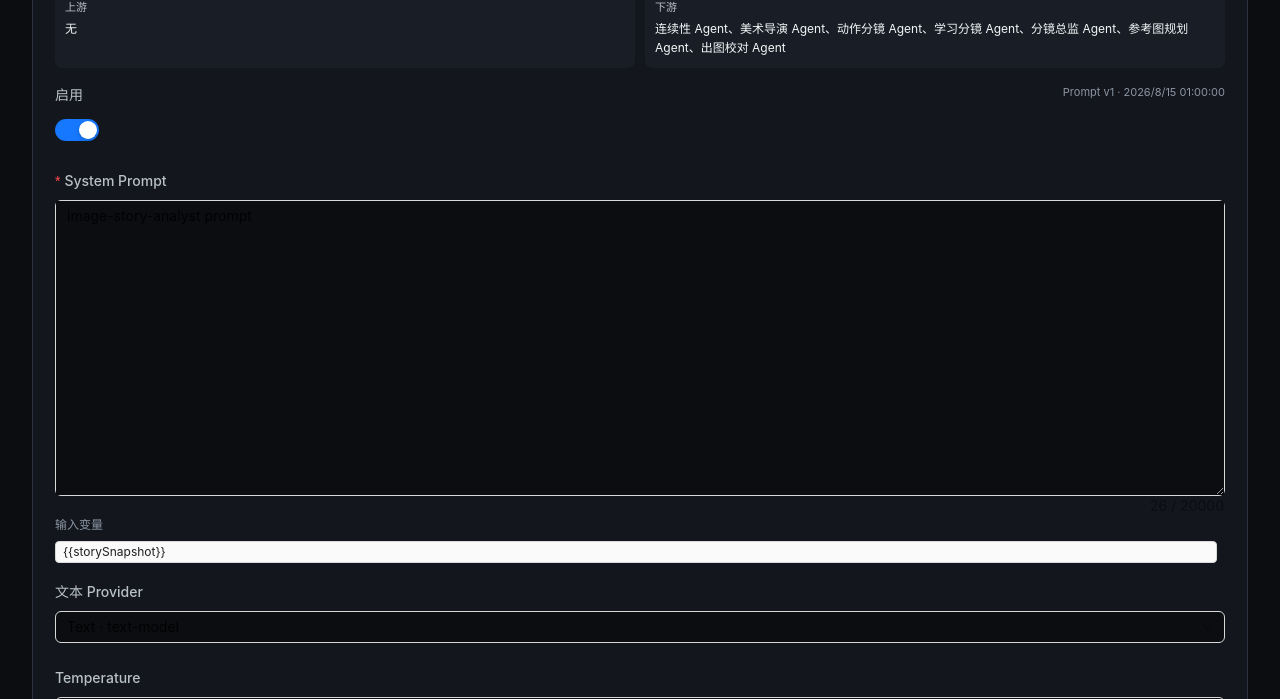
Test: ImageAgentFlowPage › protects dirty edits when switching nodes
The width and height of the screenshot is (1280, 699).
(page scrolled)
Type " changed" into the text box named "System Prompt" at [640, 348], box [56,200,1224,494]
(page scrolled)
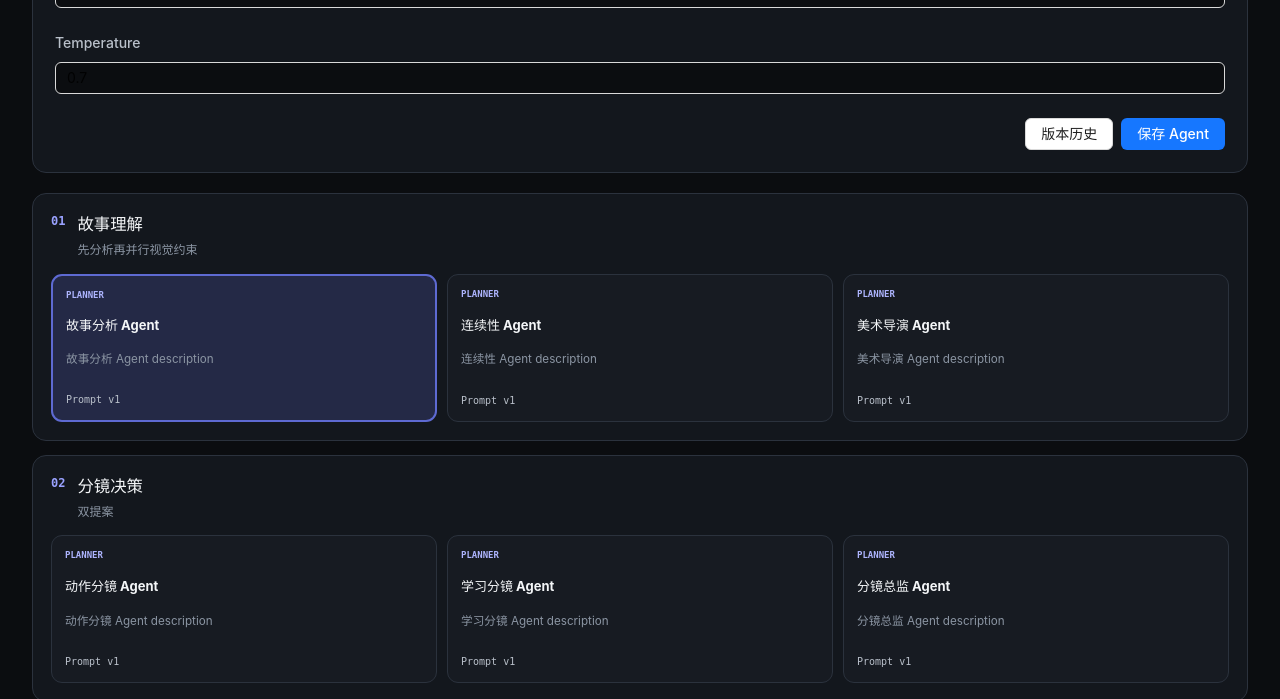
Click the button with aria-label "连续性 Agent Agent" at [480, 294], box [447,274,833,422]
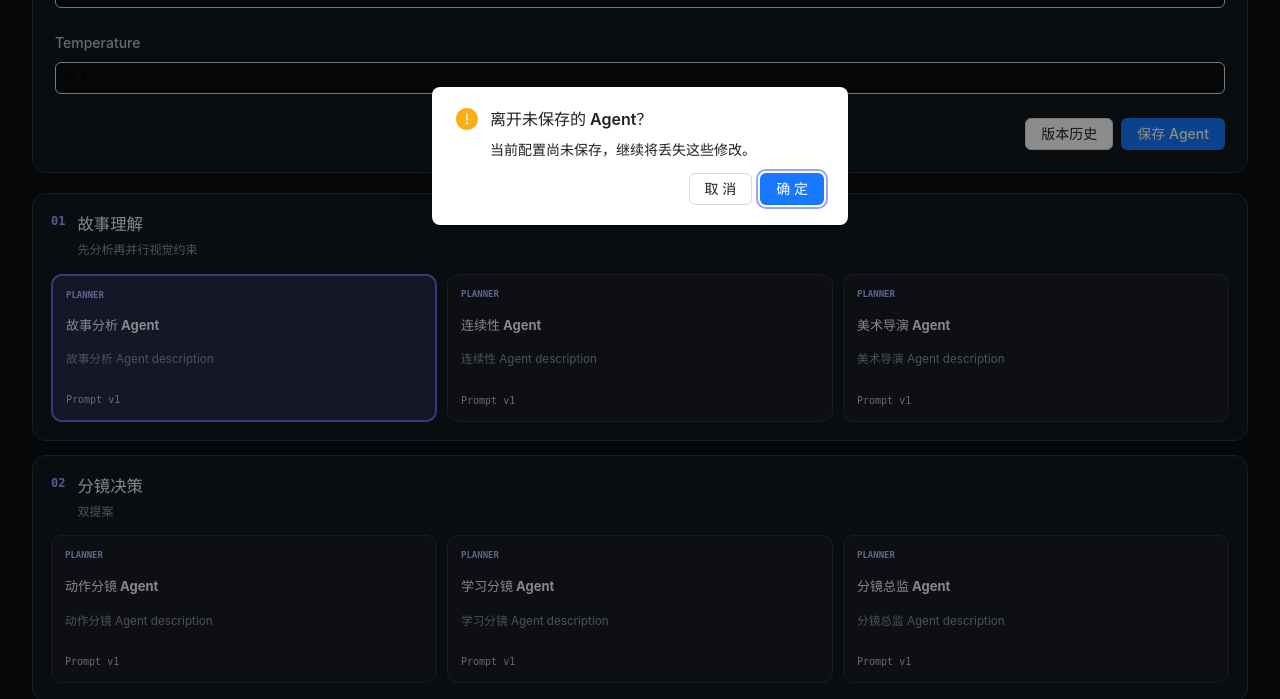
Click the button "确 定" at [792, 189], box [760,173,824,205]
(page scrolled)
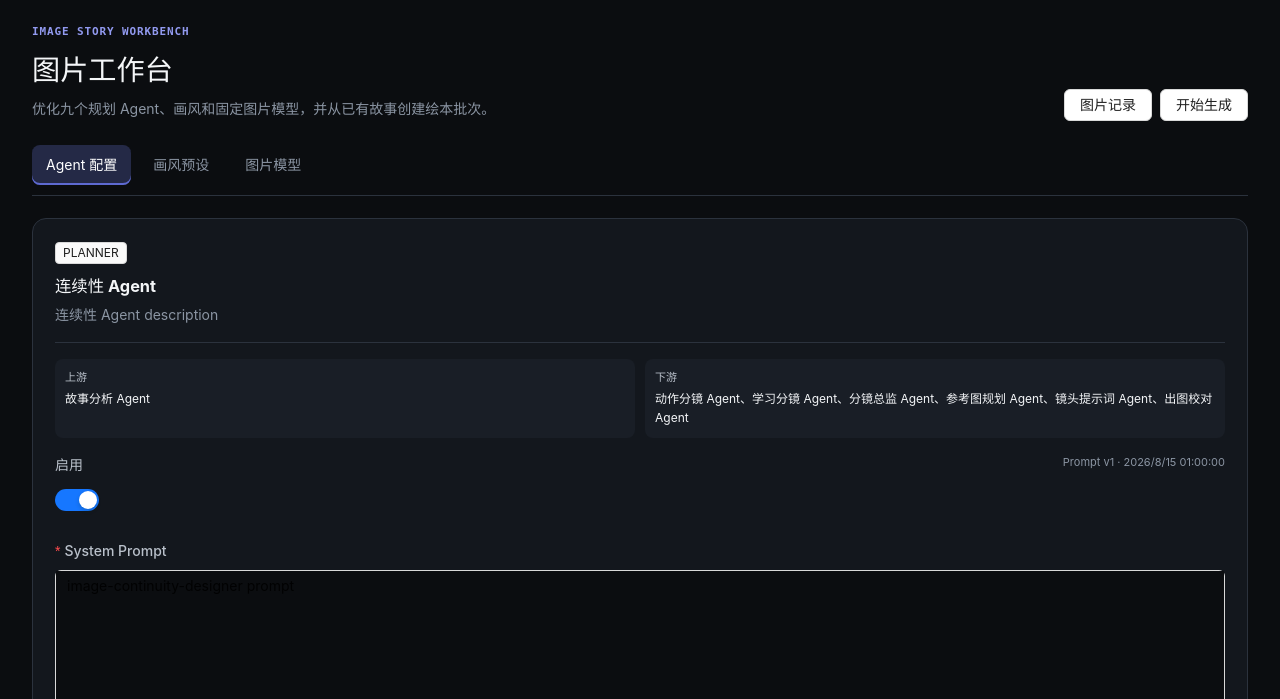
Check: the heading "连续性 Agent" is shown, box [55,276,156,296]
